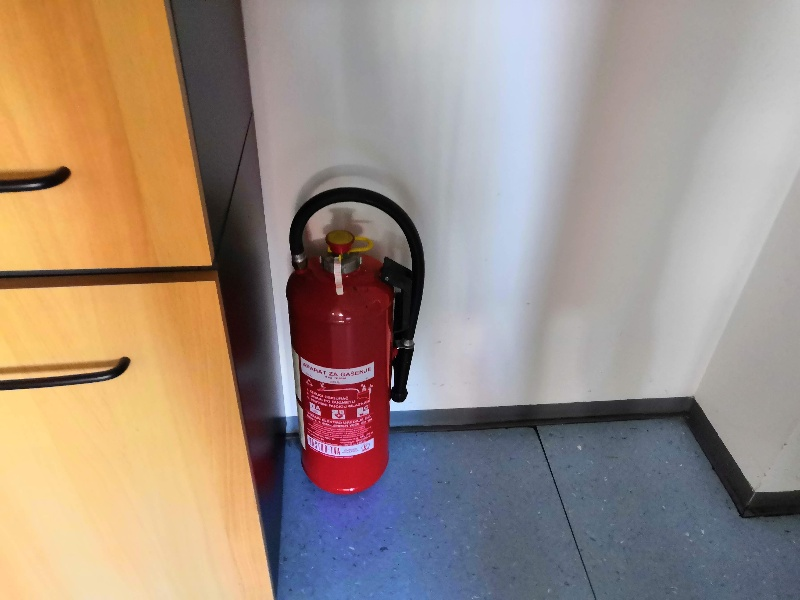vataparat: (285, 190, 424, 494)
